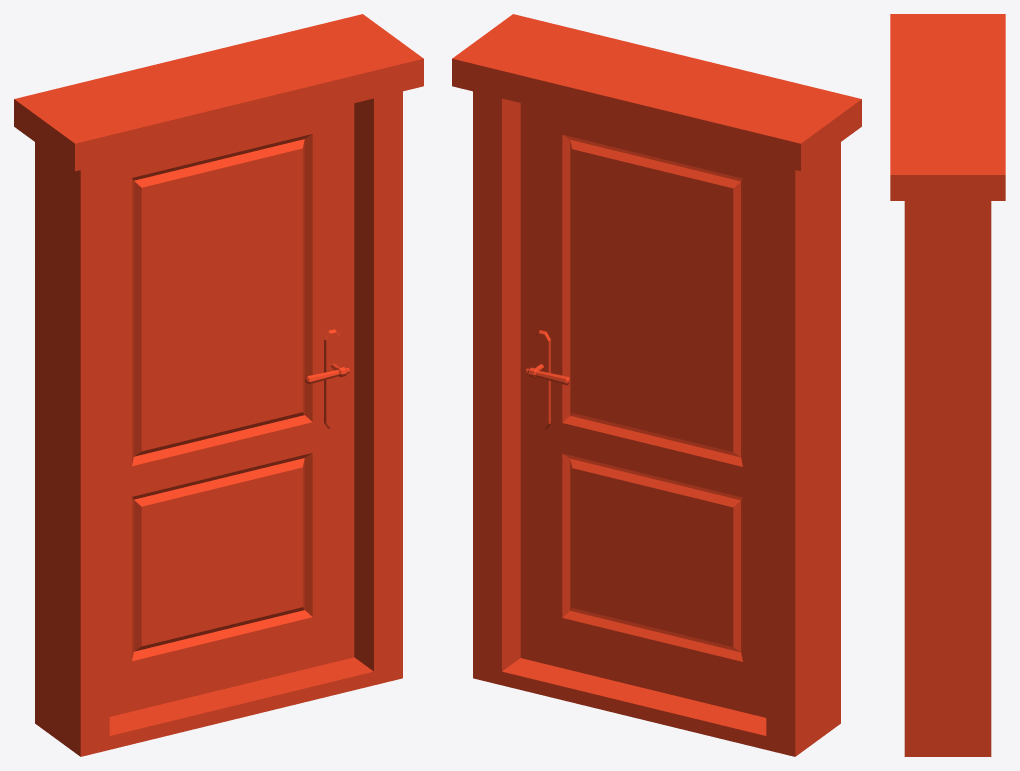
File: SM_Door_Single_C_Regular_Survival.fbx
The picture shows the model from 3 angles, left to right: view 1: azimuth 30°, elevation 25°; view 2: azimuth 150°, elevation 25°; view 3: azimuth 270°, elevation 25°; orthographic projection. The views are drawn at different scales.
Parts seen in each view (by area): view 1: door-single-c-regular-door-survival, door-single-c-regular-frame-survival; view 2: door-single-c-regular-door-survival, door-single-c-regular-frame-survival; view 3: door-single-c-regular-frame-survival.
Part boxes in pixels (x1,y1,x2,y2): door-single-c-regular-door-survival: (109, 103, 354, 716); door-single-c-regular-frame-survival: (14, 14, 423, 756); door-single-c-regular-door-survival: (520, 103, 766, 717); door-single-c-regular-frame-survival: (452, 14, 861, 756); door-single-c-regular-frame-survival: (890, 14, 1005, 756).
Size of the model in its own units: 1.32 by 2.25 by 0.4.
